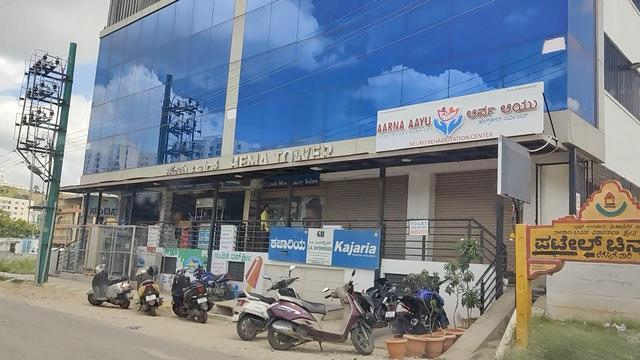LMV: (273, 278, 373, 350), (240, 288, 314, 325), (134, 257, 169, 328), (88, 261, 128, 310), (173, 263, 198, 317)
RoadDamages: (145, 343, 188, 360)
